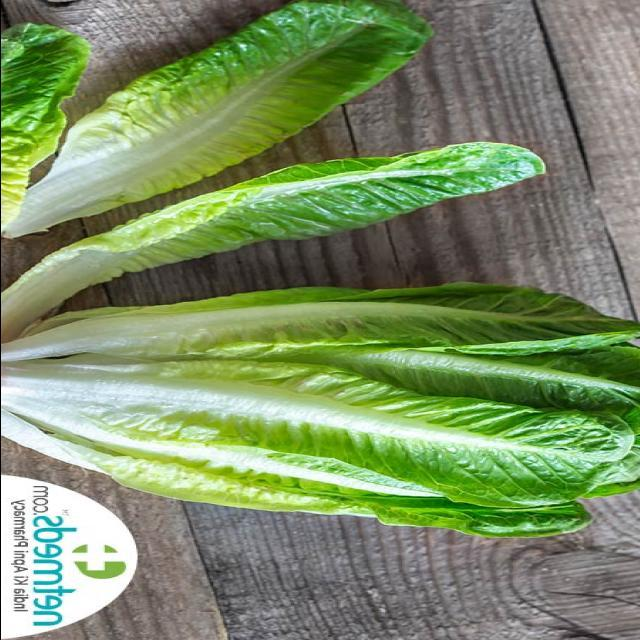Lettuce: (0, 141, 640, 536), (0, 0, 415, 232)
